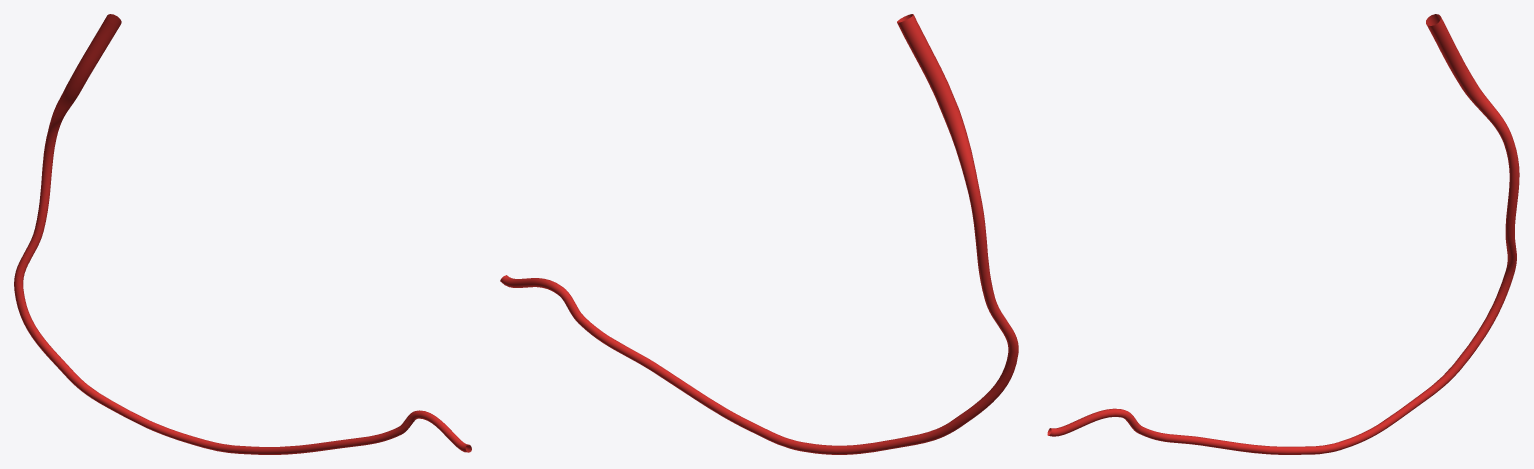
Rendered from circulatorio-internal-pudendal-vein-r.glb.
3 renders of one model, left to right at view 1: azimuth 30°, elevation 25°; view 2: azimuth 210°, elevation 25°; view 3: azimuth 270°, elevation 25°, orthographic. The views are drawn at different scales.
Parts seen in each view (by area): view 1: Internal pudendal vein.r; view 2: Internal pudendal vein.r; view 3: Internal pudendal vein.r.
Boxes of the visible parts, x1=… form: Internal pudendal vein.r: x1=14, y1=14, x2=471, y2=454; Internal pudendal vein.r: x1=500, y1=14, x2=1018, y2=454; Internal pudendal vein.r: x1=1047, y1=14, x2=1519, y2=454.
Bounding box in the file's own units: 0.0514 × 0.0875 × 0.091.
